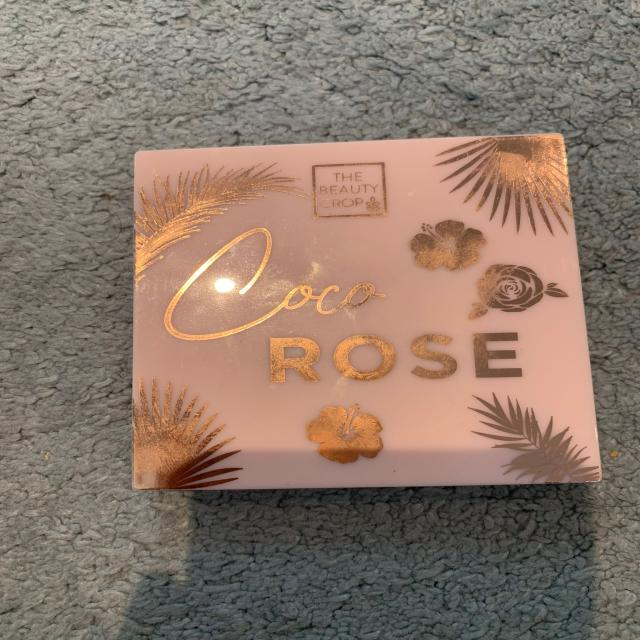makeup: (109, 113, 614, 511)
